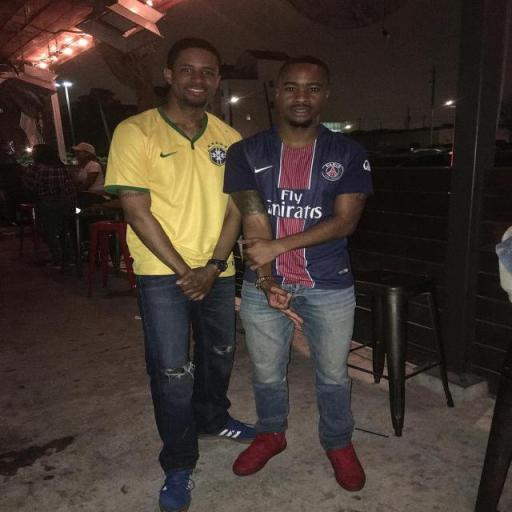Emirates: (262, 188, 322, 218)
